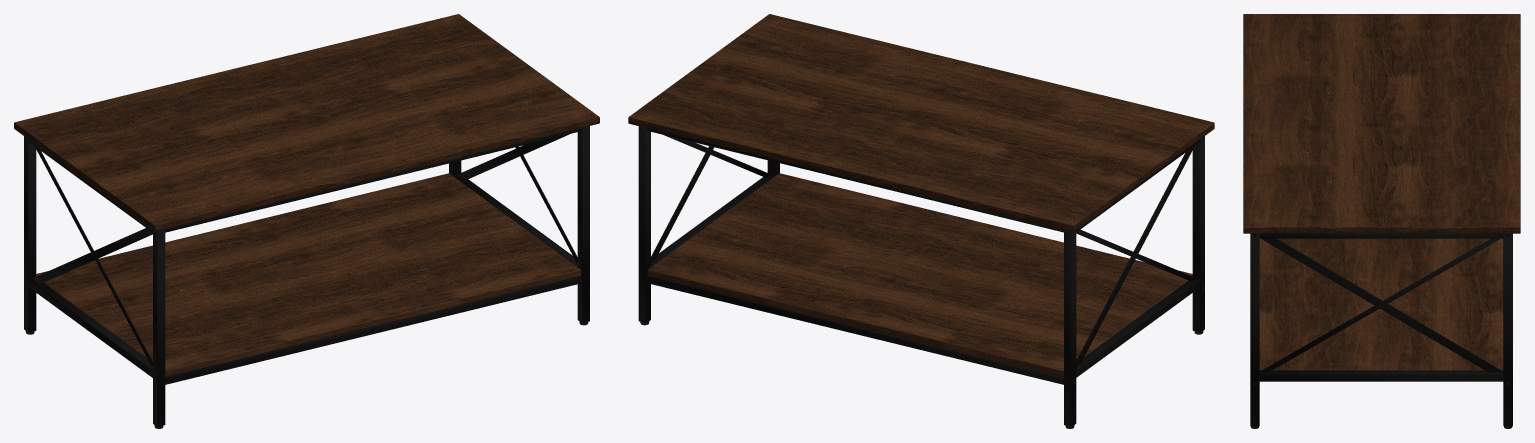
Rendered from table.glb.
3 views of the same model, side by side, from view 1: azimuth 30°, elevation 25°; view 2: azimuth 150°, elevation 25°; view 3: azimuth 270°, elevation 25° (orthographic).
Parts seen in each view (by area): view 1: wood, metal base; view 2: wood, metal base; view 3: wood, metal base.
Boxes of the visible parts, <box> form: wood: <box>14,14,599,377</box>; metal base: <box>24,126,589,428</box>; wood: <box>628,14,1214,377</box>; metal base: <box>638,126,1204,428</box>; wood: <box>1243,14,1520,370</box>; metal base: <box>1250,233,1512,428</box>.
Size of the model in its own units: 1.48 by 0.6644 by 0.8154.
Materials: 4 (2 with a texture image).
